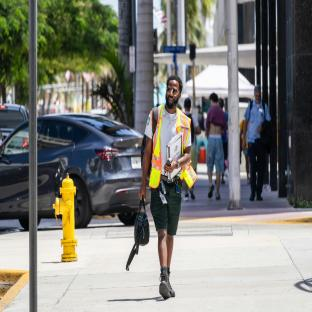Human: (139, 75, 197, 299)
